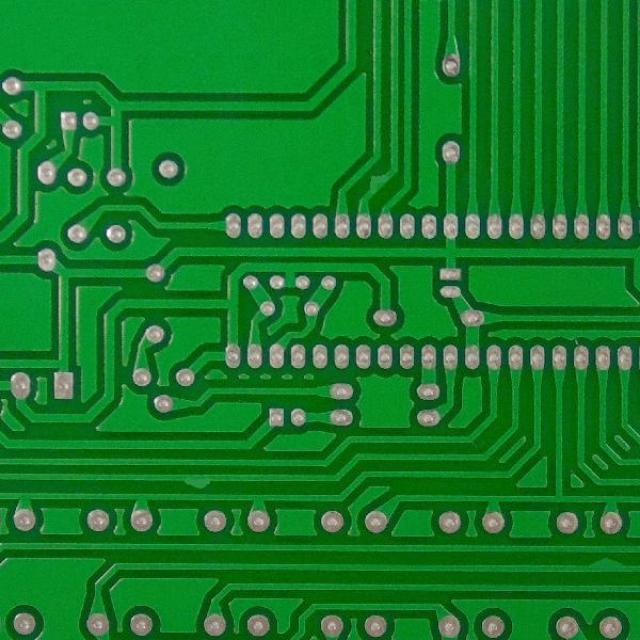Spur: (582, 554, 630, 577), (176, 469, 218, 491), (365, 170, 386, 200)
